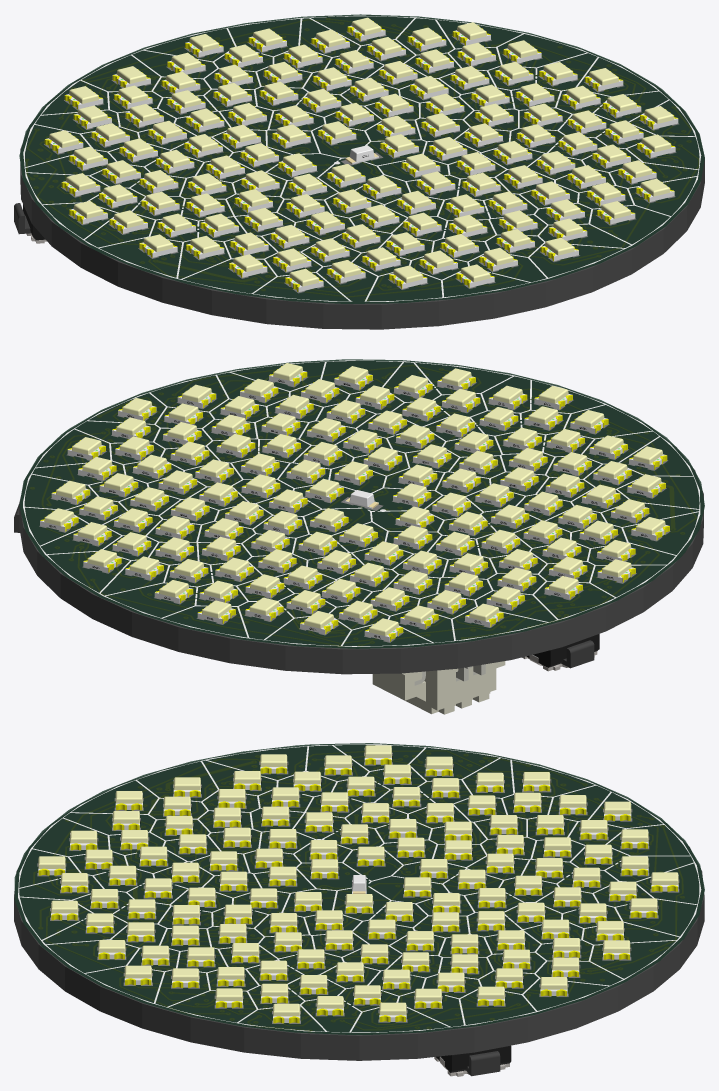
The model's file is board.glb.
3 views of the same model, one above another, from view 1: azimuth 30°, elevation 25°; view 2: azimuth 150°, elevation 25°; view 3: azimuth 270°, elevation 25° (orthographic).
Parts seen in each view (by area): view 1: LED-ARRAY-SMD_4P-L1.6-W1.5-BR_XL-1615RGBC-RF (×132), sunflower_soldermask, sunflower_PCB, sunflower_silkscreen, sunflower_pad, sunflower_copper, SW-SMD_EVQP7C01P-L3.6-W3.5-H1.4-P3.6-LS4.7; view 2: LED-ARRAY-SMD_4P-L1.6-W1.5-BR_XL-1615RGBC-RF (×132), sunflower_soldermask, sunflower_PCB, sunflower_silkscreen, sunflower_pad, sunflower_copper, Molex_PicoBlade_53261-0271_1x02-1MP_P1.25mm_Horizontal, SW-SMD_EVQP7C01P-L3.6-W3.5-H1.4-P3.6-LS4.7; view 3: sunflower_soldermask, LED-ARRAY-SMD_4P-L1.6-W1.5-BR_XL-1615RGBC-RF (×132), sunflower_PCB, sunflower_silkscreen, sunflower_copper, sunflower_pad, SW-SMD_EVQP7C01P-L3.6-W3.5-H1.4-P3.6-LS4.7.
Part boxes in pixels (left/top/right/bottom): LED-ARRAY-SMD_4P-L1.6-W1.5-BR_XL-1615RGBC-RF (×132): left=44, top=17, right=678, bottom=292; sunflower_soldermask: left=19, top=14, right=704, bottom=303; sunflower_PCB: left=20, top=16, right=704, bottom=329; sunflower_silkscreen: left=23, top=15, right=701, bottom=301; sunflower_pad: left=44, top=31, right=679, bottom=293; sunflower_copper: left=25, top=18, right=698, bottom=300; SW-SMD_EVQP7C01P-L3.6-W3.5-H1.4-P3.6-LS4.7: left=14, top=203, right=46, bottom=243; LED-ARRAY-SMD_4P-L1.6-W1.5-BR_XL-1615RGBC-RF (×132): left=40, top=363, right=669, bottom=641; sunflower_soldermask: left=19, top=359, right=704, bottom=648; sunflower_PCB: left=19, top=361, right=703, bottom=674; sunflower_silkscreen: left=23, top=360, right=700, bottom=646; sunflower_pad: left=39, top=377, right=670, bottom=642; sunflower_copper: left=30, top=365, right=696, bottom=645; Molex_PicoBlade_53261-0271_1x02-1MP_P1.25mm_Horizontal: left=372, top=661, right=505, bottom=714; SW-SMD_EVQP7C01P-L3.6-W3.5-H1.4-P3.6-LS4.7: left=522, top=634, right=599, bottom=671; sunflower_soldermask: left=14, top=743, right=704, bottom=1034; LED-ARRAY-SMD_4P-L1.6-W1.5-BR_XL-1615RGBC-RF (×132): left=38, top=745, right=678, bottom=1023; sunflower_PCB: left=14, top=745, right=704, bottom=1060; sunflower_silkscreen: left=18, top=744, right=701, bottom=1032; sunflower_copper: left=33, top=751, right=684, bottom=1029; sunflower_pad: left=37, top=752, right=679, bottom=1023; SW-SMD_EVQP7C01P-L3.6-W3.5-H1.4-P3.6-LS4.7: left=434, top=1045, right=511, bottom=1076.
Bounding box in the file's own units: 0.038 × 0.00568 × 0.038.
